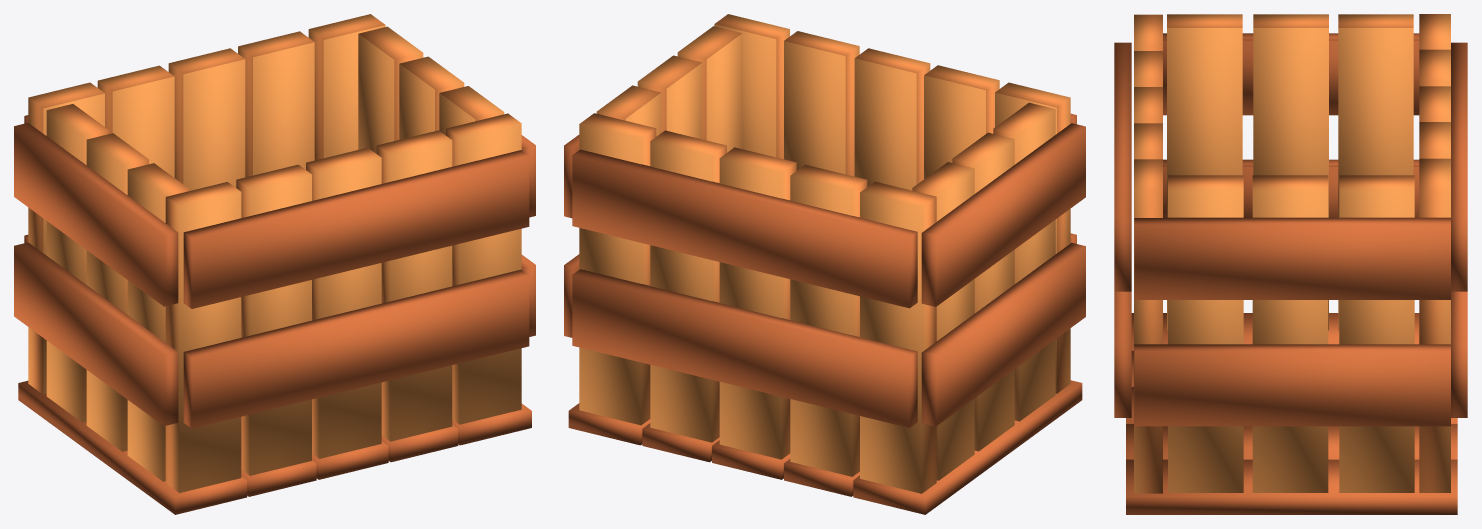
File: Caixote.fbx
The picture shows the model from 3 angles, left to right: view 1: azimuth 30°, elevation 25°; view 2: azimuth 150°, elevation 25°; view 3: azimuth 270°, elevation 25°; orthographic projection. The views are drawn at different scales.
Parts seen in each view (by area): view 1: Caixote; view 2: Caixote; view 3: Caixote.
Part boxes in pixels (<box>): Caixote: <box>14,14,535,514</box>; Caixote: <box>564,14,1085,514</box>; Caixote: <box>1114,14,1467,514</box>.
Size of the model in its own units: 86.38 by 67.33 by 67.31.
